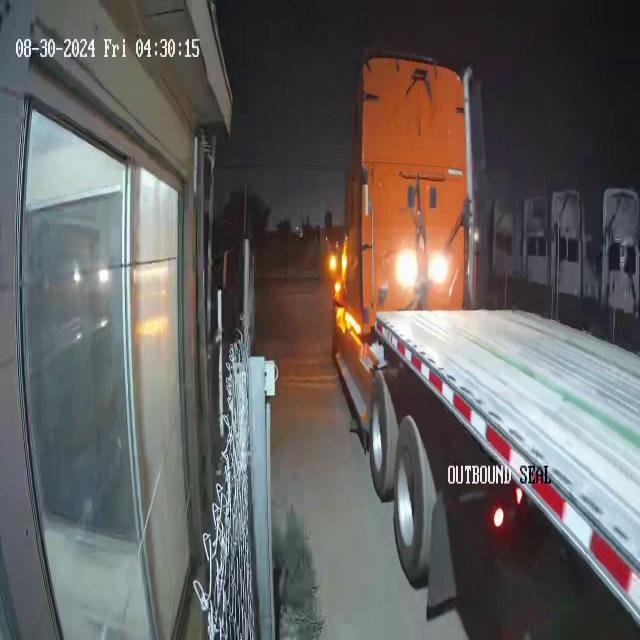TRUCK_OUT: (331, 48, 639, 637)
